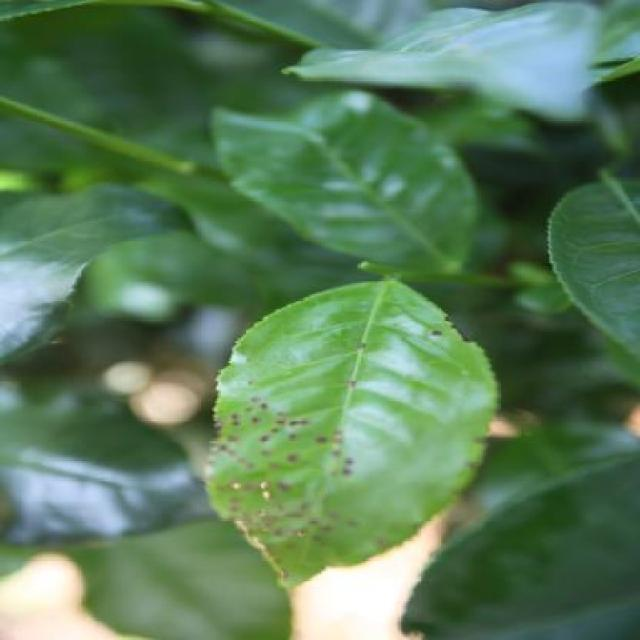Tea Mosquito bug infested leaf: (176, 269, 507, 588)
